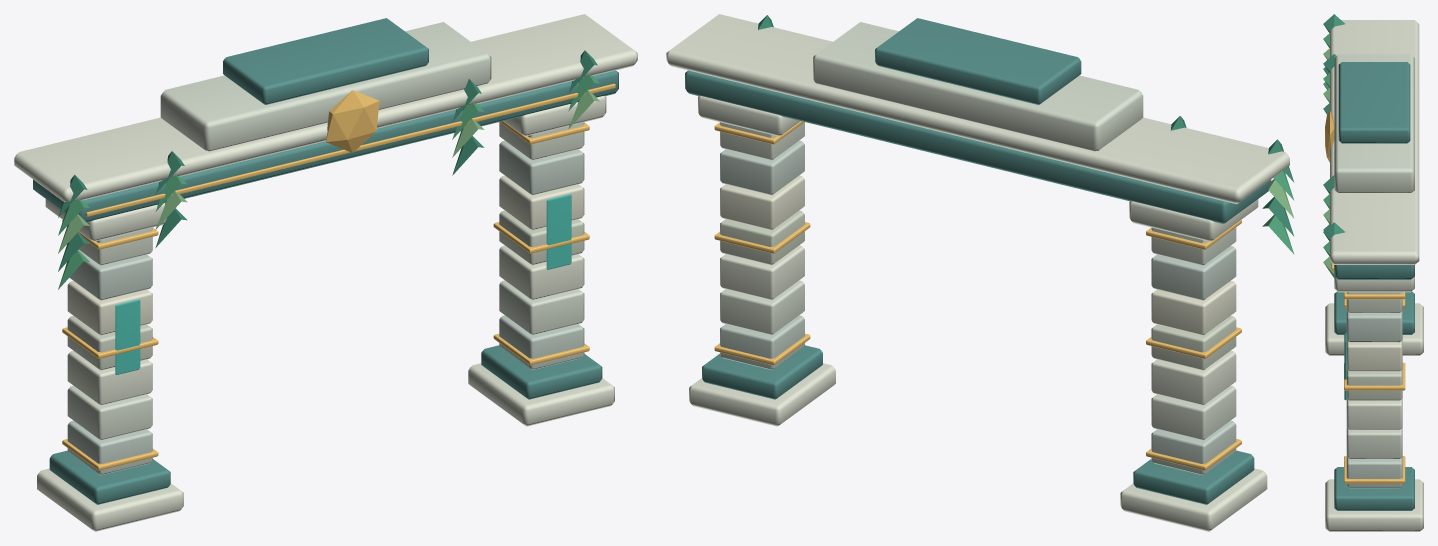
Rendered from sun_gate.glb.
3 renders of one model, left to right at view 1: azimuth 30°, elevation 25°; view 2: azimuth 150°, elevation 25°; view 3: azimuth 270°, elevation 25°, orthographic. The views are drawn at different scales.
Visible parts, largest first — view 1: Footing, Footing.001, Column_course.001, Column_course, Brass_band, Column_course.004, Column_course.003, Jade_relief, Palm_frond, Palm_frond.001, Palm_frond.002; view 2: Footing, Footing.001, Column_course.001, Column_course, Column_course.004, Column_course.003, Brass_band, Palm_frond; view 3: Footing, Footing.001, Column_course.001, Column_course, Brass_band, Column_course.004, Column_course.003, Palm_frond, Palm_frond.002, Palm_frond.001, Jade_relief.
Part boxes in pixels (box(x1,y1,x2,y2)): Footing: box(14, 14, 637, 531); Footing.001: box(33, 18, 618, 504); Column_course.001: box(67, 22, 584, 440); Column_course: box(67, 140, 584, 475); Brass_band: box(62, 83, 615, 470); Column_course.004: box(67, 175, 584, 335); Column_course.003: box(67, 210, 584, 370); Jade_relief: box(115, 194, 571, 374); Palm_frond: box(58, 50, 597, 271); Palm_frond.001: box(58, 74, 599, 289); Palm_frond.002: box(58, 89, 599, 253); Footing: box(666, 14, 1289, 531); Footing.001: box(685, 18, 1271, 504); Column_course.001: box(720, 22, 1236, 440); Column_course: box(720, 140, 1236, 475); Column_course.004: box(720, 175, 1236, 335); Column_course.003: box(720, 210, 1236, 370); Brass_band: box(714, 121, 1241, 470); Palm_frond: box(758, 15, 1294, 236); Footing: box(1325, 20, 1423, 531); Footing.001: box(1334, 62, 1414, 510); Column_course.001: box(1334, 54, 1414, 459); Column_course: box(1346, 311, 1402, 488); Brass_band: box(1325, 110, 1405, 483); Column_course.004: box(1346, 340, 1402, 371); Column_course.003: box(1346, 369, 1402, 400); Palm_frond: box(1323, 14, 1344, 240); Palm_frond.002: box(1323, 48, 1334, 277); Palm_frond.001: box(1323, 33, 1329, 256); Jade_relief: box(1344, 332, 1346, 400).
Size of the model in its own units: 12.5 by 8.18 by 2.25.
